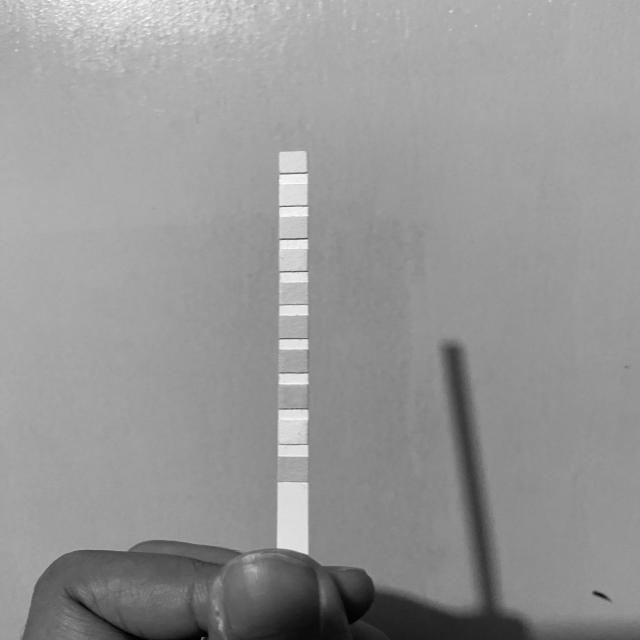Bilirubin: (280, 421, 307, 444)
Blood: (281, 317, 307, 337)
Glucose: (279, 457, 308, 482)
Ketone: (280, 386, 306, 408)
Leukocytes: (280, 154, 306, 172)
Nitrite: (281, 186, 306, 205)
Protein: (282, 250, 306, 270)
SpGravity: (280, 351, 306, 372)
Urobilinogen: (281, 218, 307, 237)
background: (0, 0, 640, 640)
pH: (280, 284, 306, 304)
strip: (277, 151, 309, 546)
